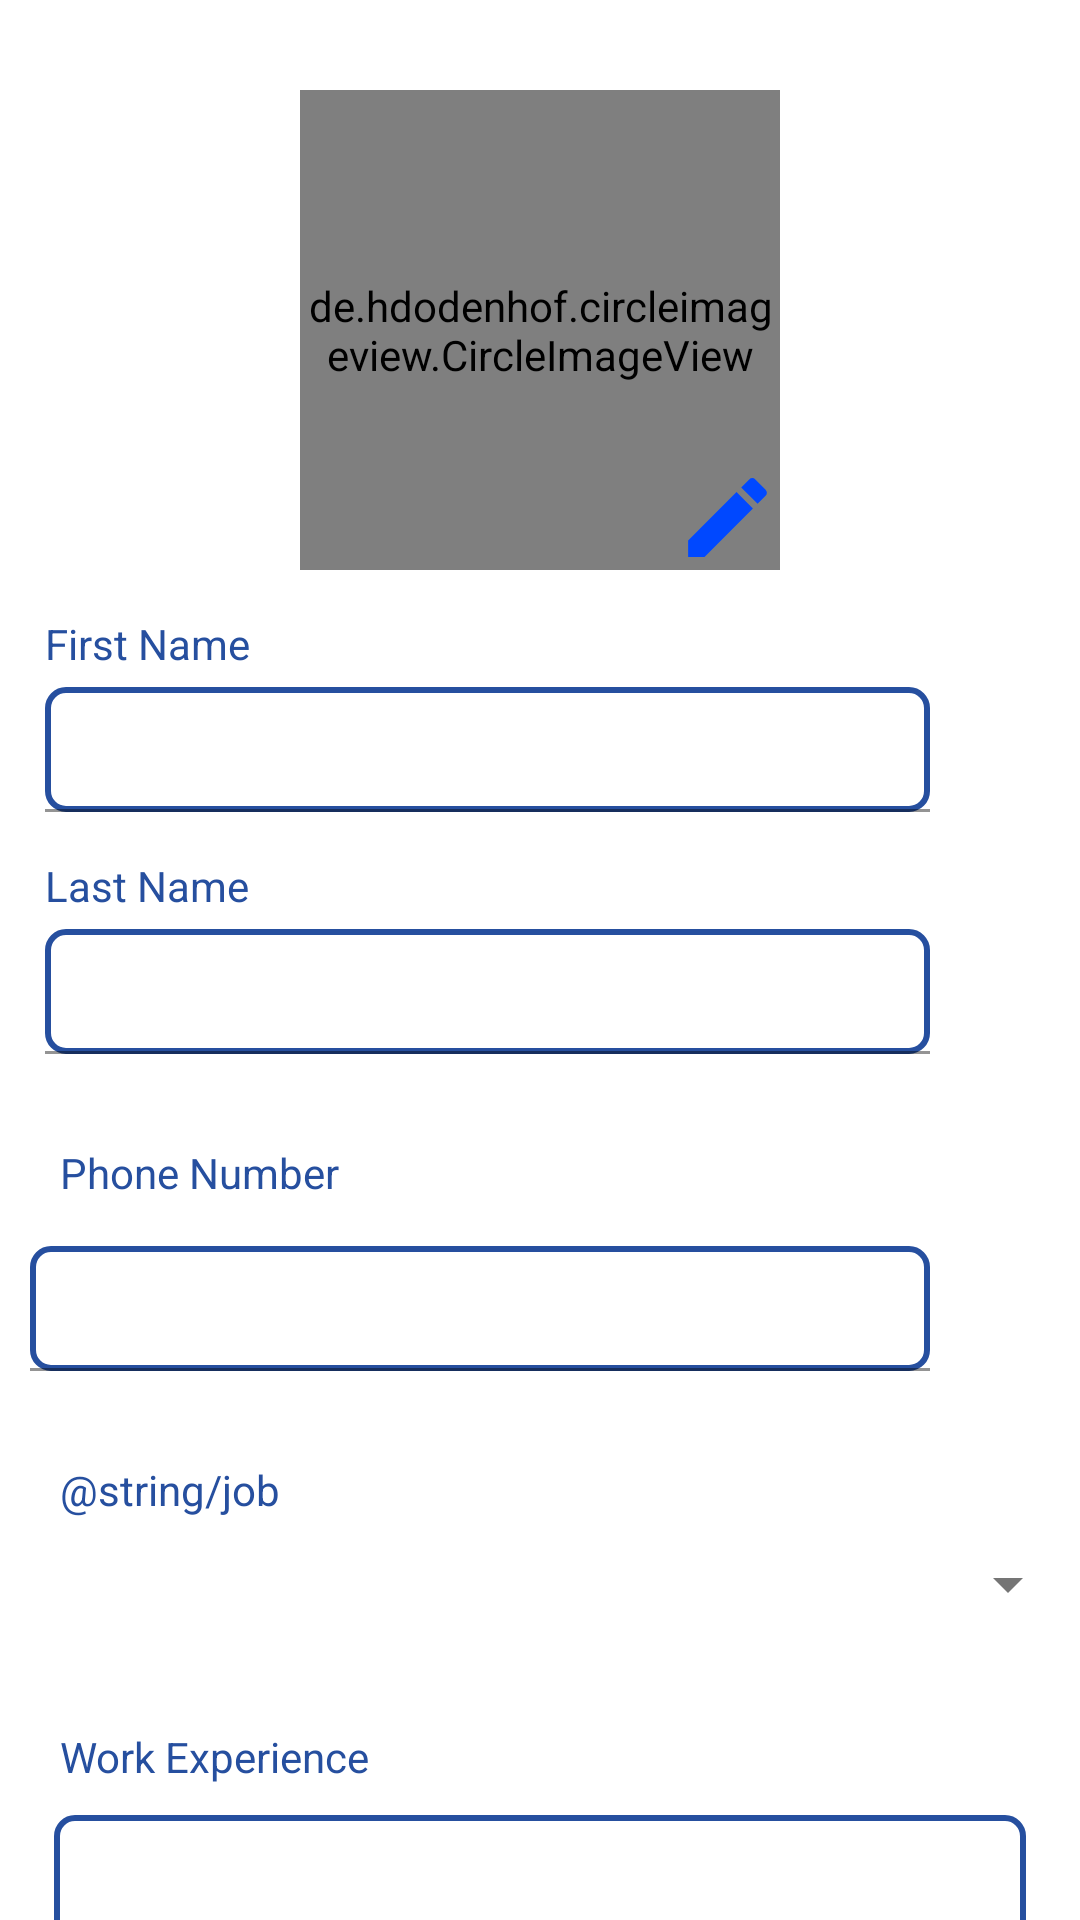

Where to tap for icons on this 1080 × 1920 app screen, as [x,y]:
edit profile: [727,517]
